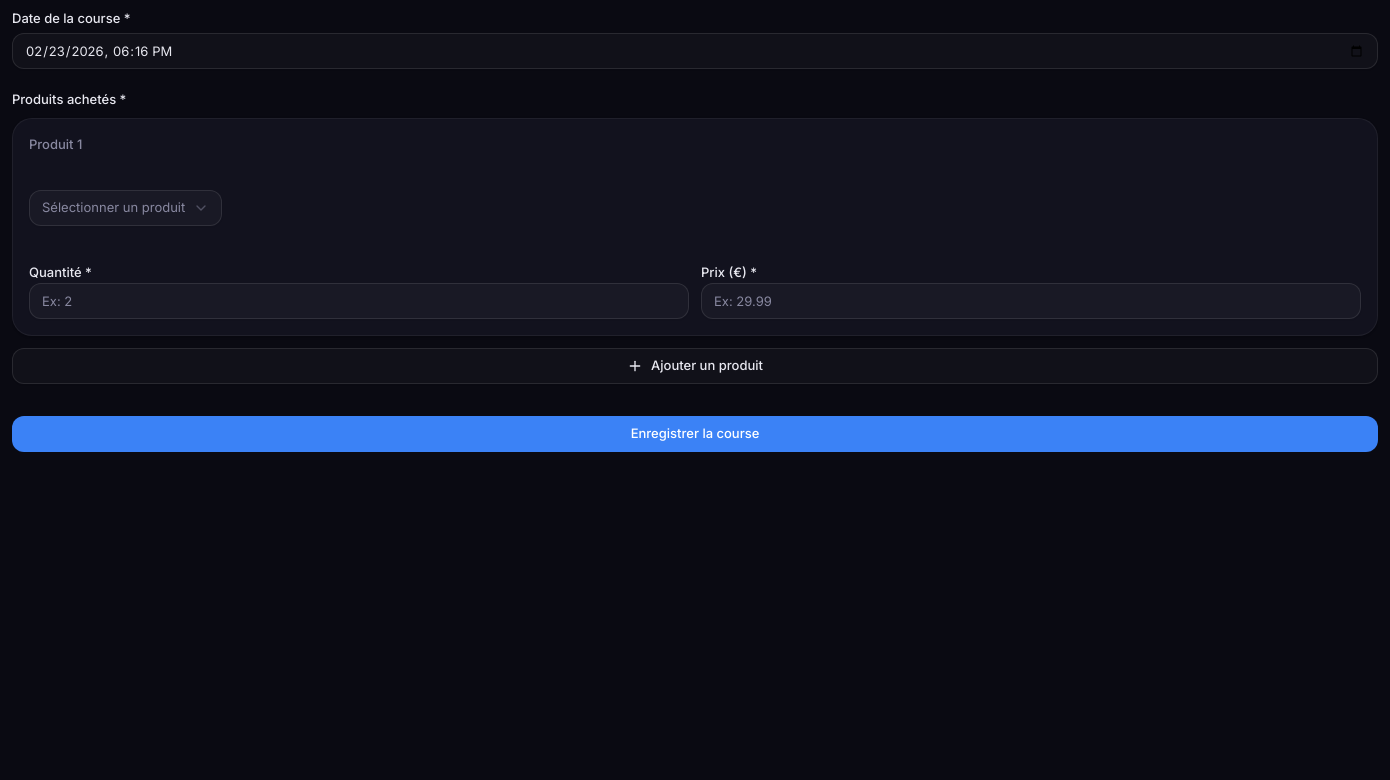
ShoppingForm › permet d'ajouter une ligne supplémentaire
Step 1. Click the button "Ajouter un produit" → (695, 366), box [12, 348, 1378, 384]
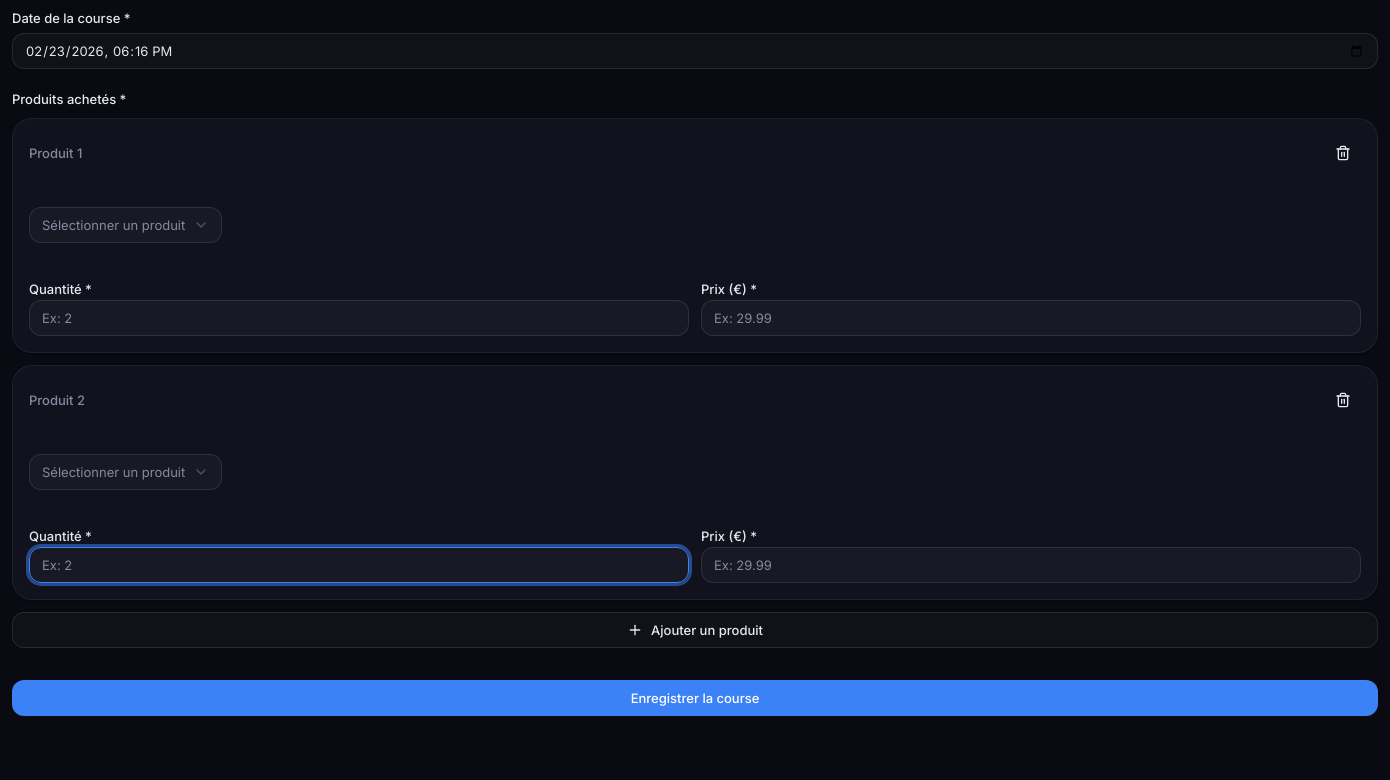
Expected: the text "Produit 1" is shown, [29, 144, 82, 162]
Now the text "Produit 2" is shown, box [29, 391, 85, 409]
